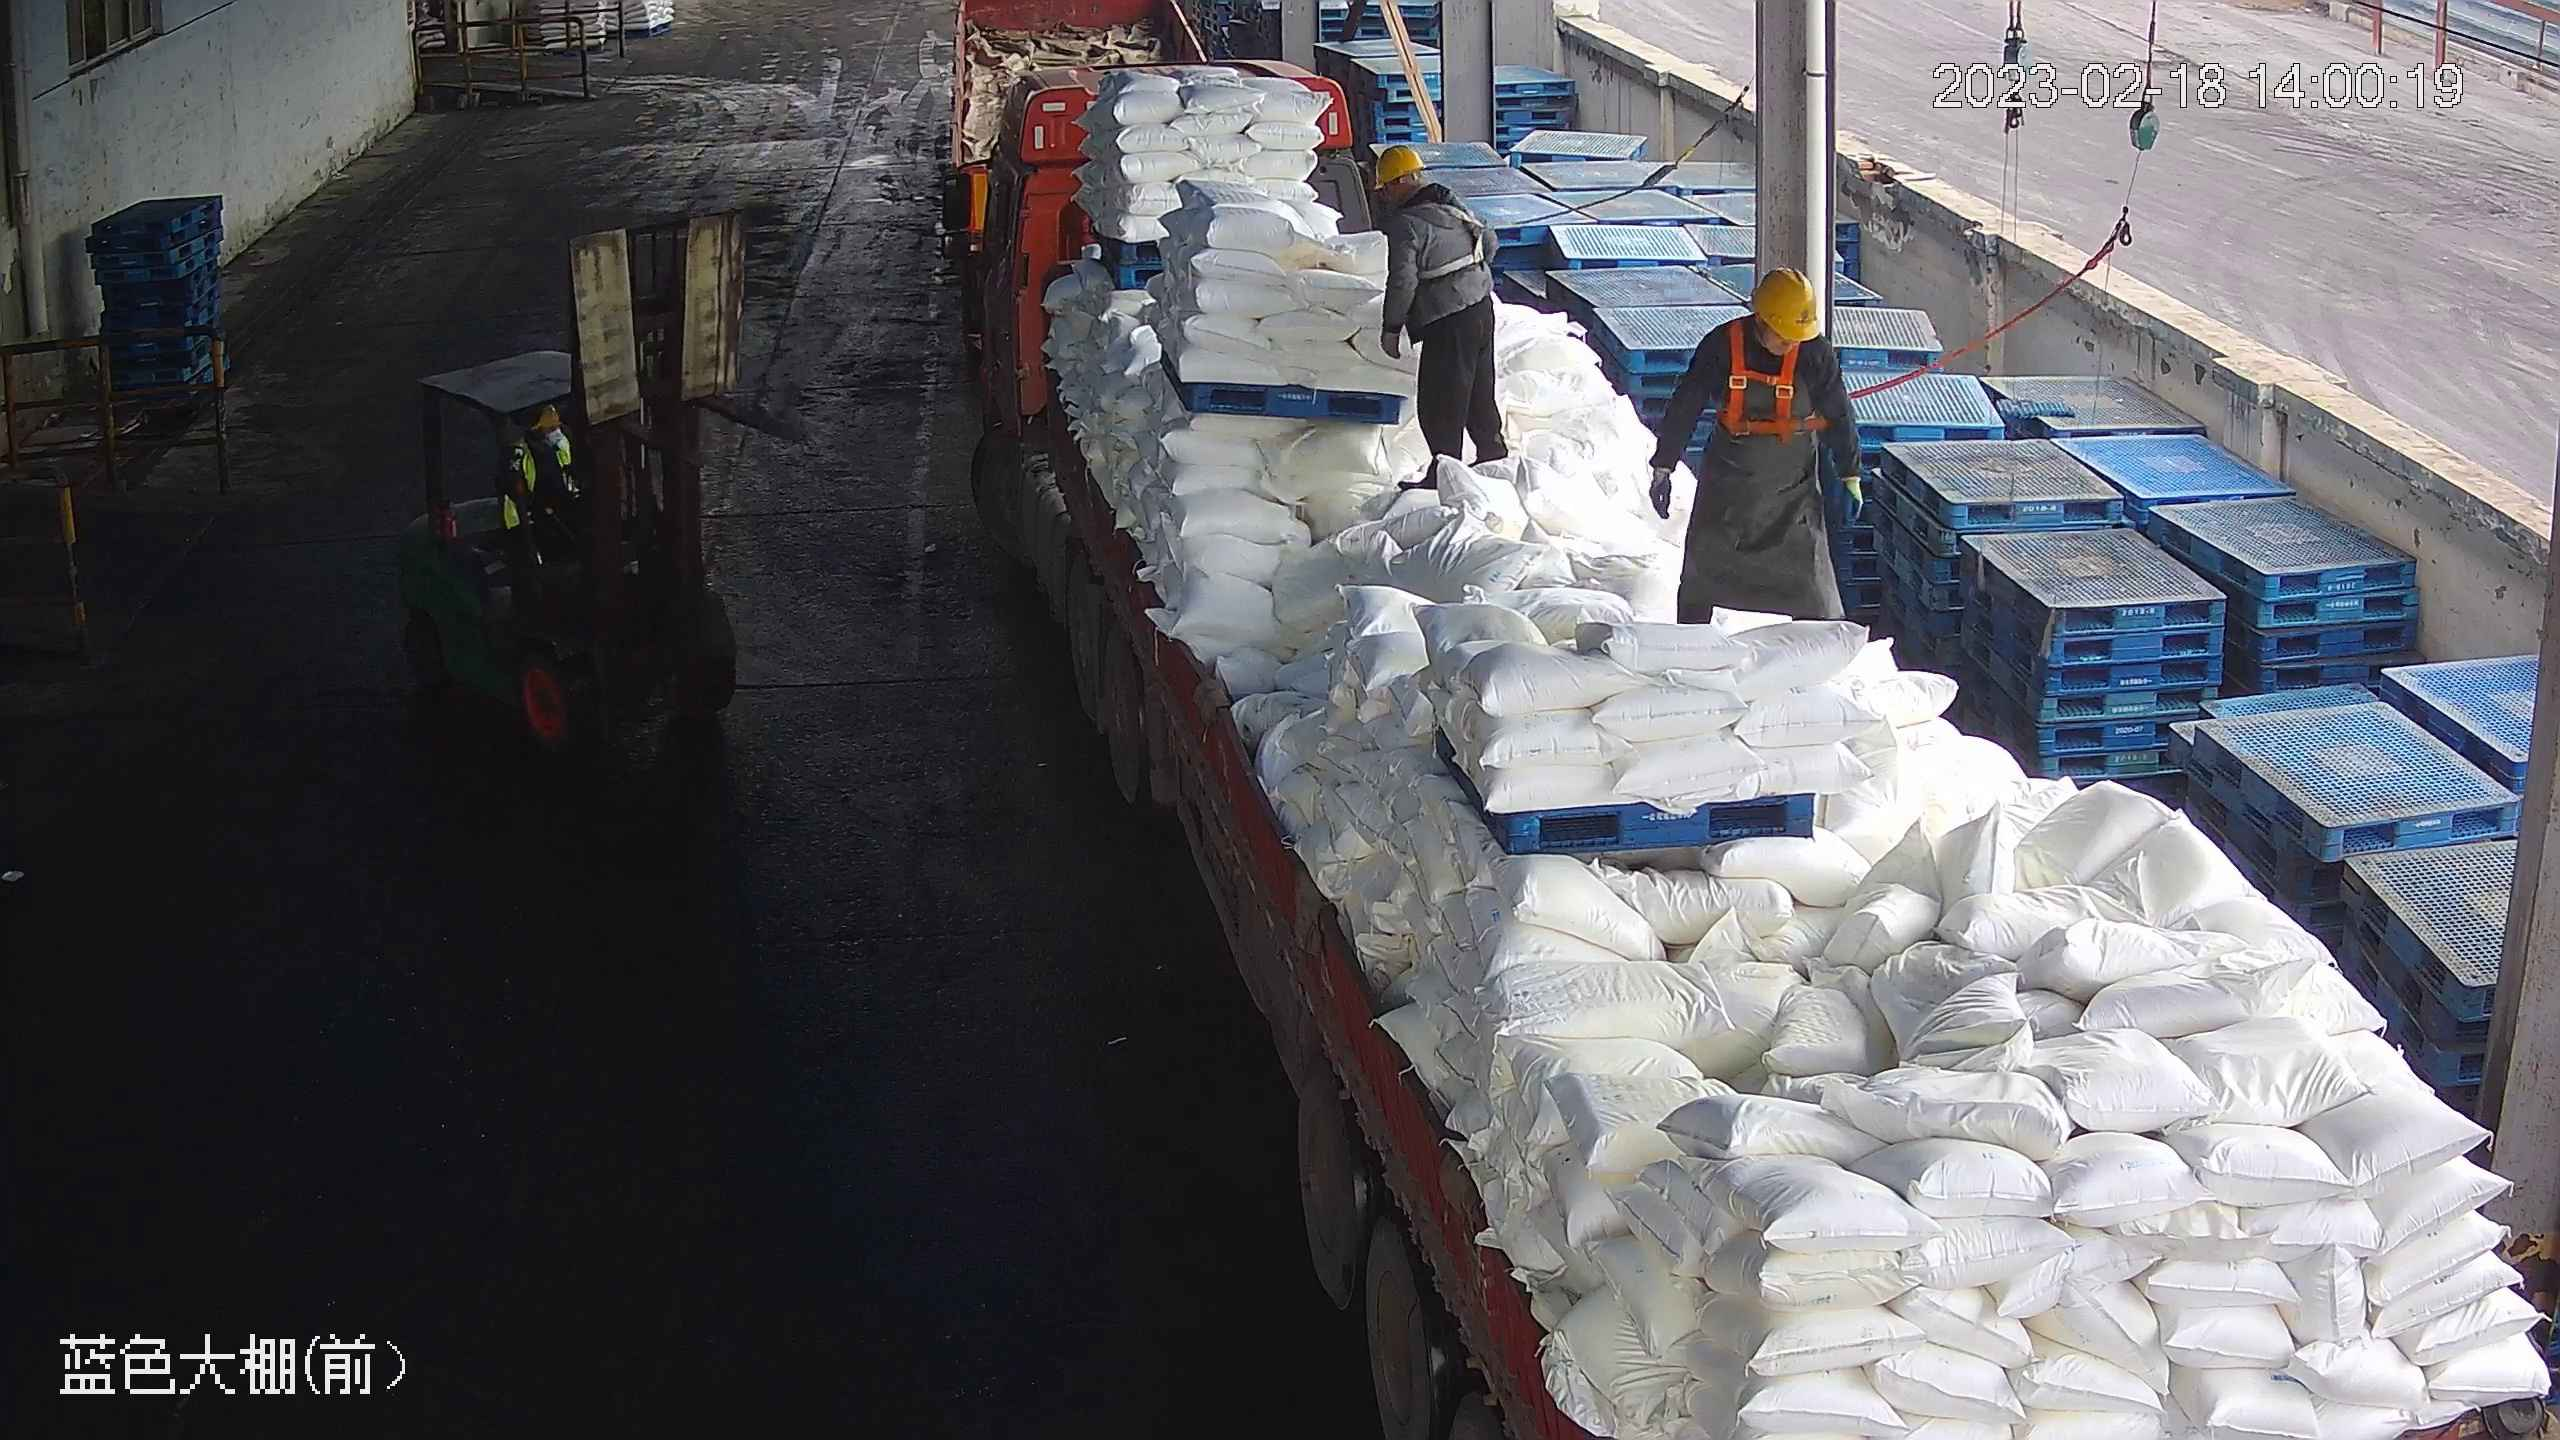belt: (1715, 313, 1843, 444), (1413, 193, 1505, 287)
head: (1685, 264, 1839, 389), (1371, 145, 1487, 243)
helmet: (1747, 263, 1824, 345), (1371, 144, 1427, 188)
people: (1646, 263, 1865, 628), (1368, 143, 1511, 484)
truck: (962, 40, 2552, 1438)
